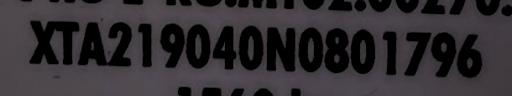letter: (264, 21, 298, 73), (27, 18, 59, 65), (236, 20, 266, 70), (77, 21, 107, 68), (105, 18, 133, 67), (296, 24, 324, 73), (404, 27, 432, 76), (52, 17, 80, 65), (429, 30, 457, 78), (456, 30, 484, 78), (348, 26, 376, 73), (324, 25, 350, 75), (158, 21, 184, 70), (212, 23, 238, 71), (184, 23, 210, 67), (134, 20, 154, 68), (381, 27, 399, 74)
